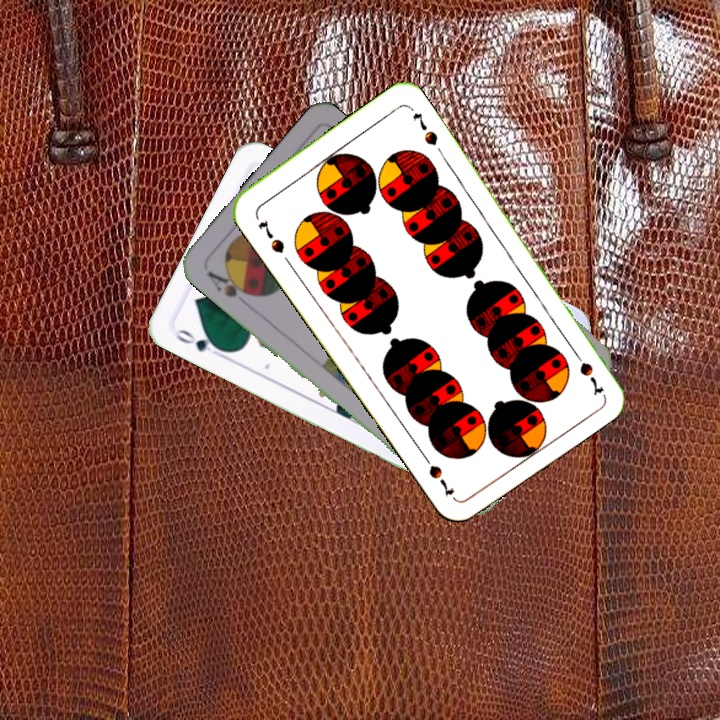GO: (171, 325, 228, 361)
S7: (567, 344, 606, 397), (254, 216, 287, 256)
SA: (202, 266, 257, 308)
